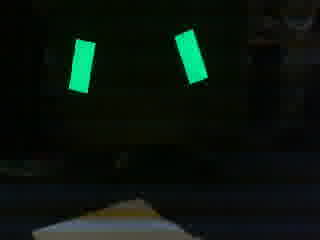target: (61, 26, 210, 95)
